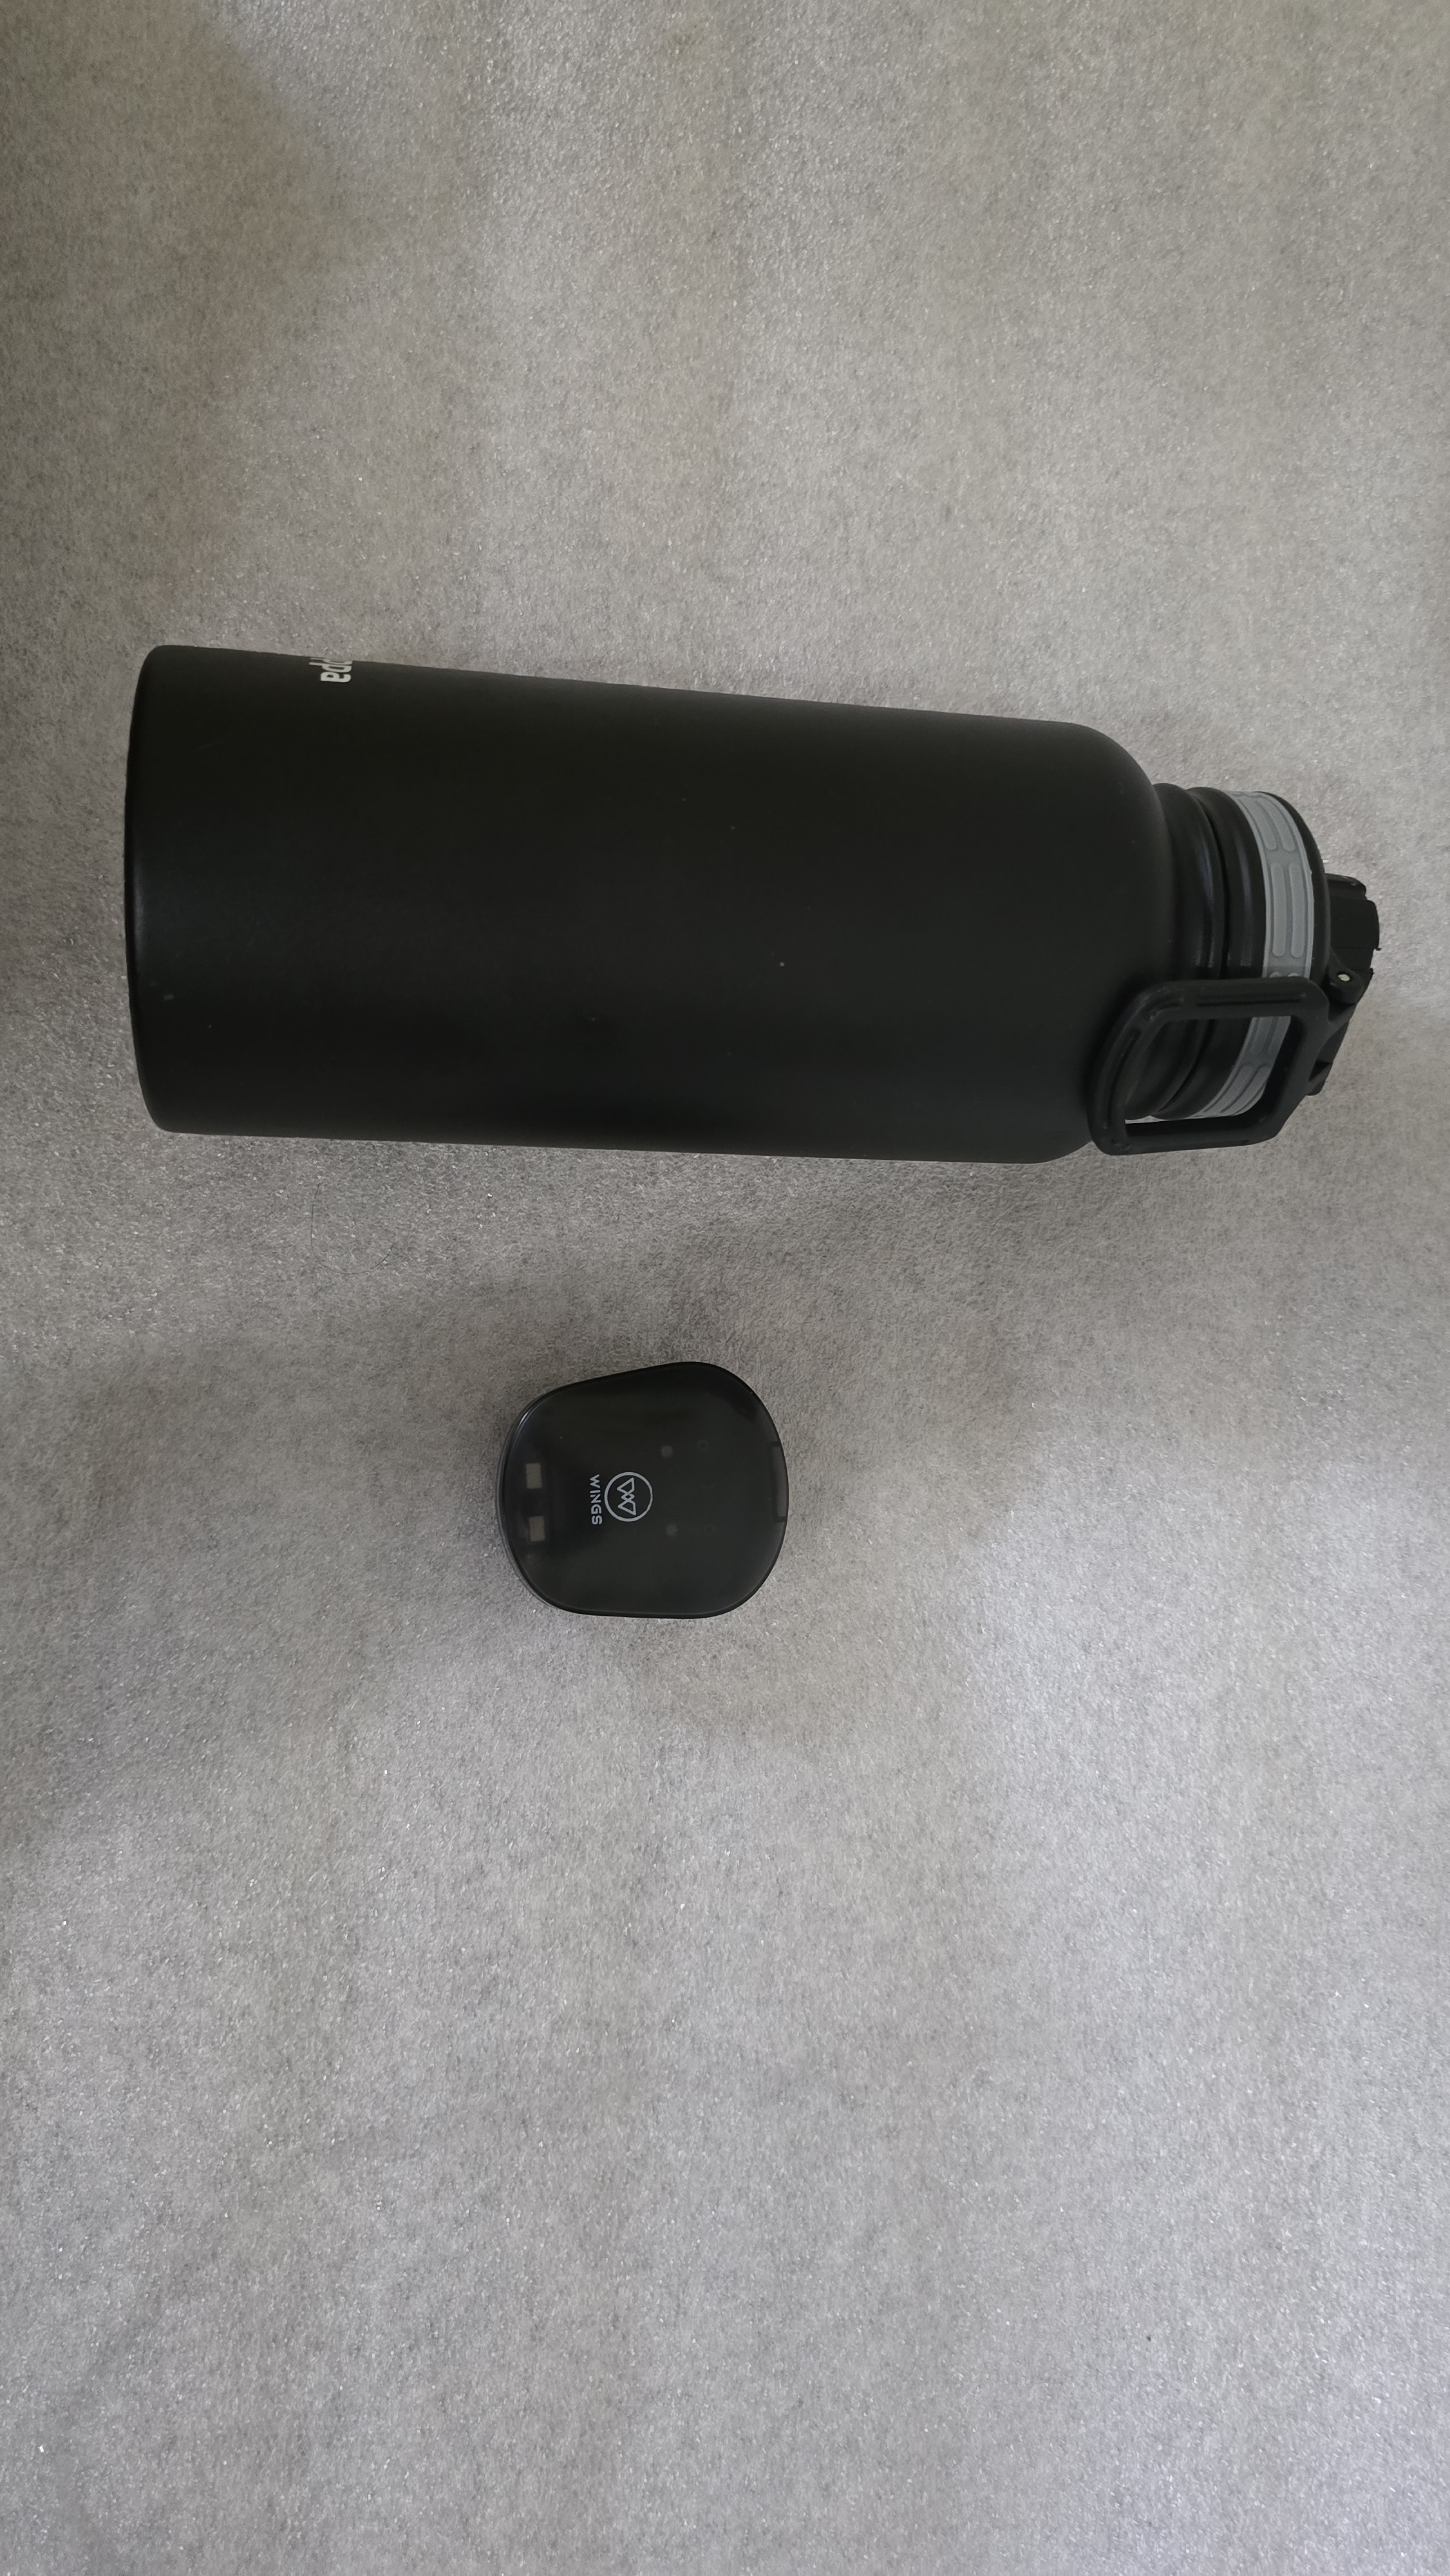bottle: (85, 587, 1420, 1224)
